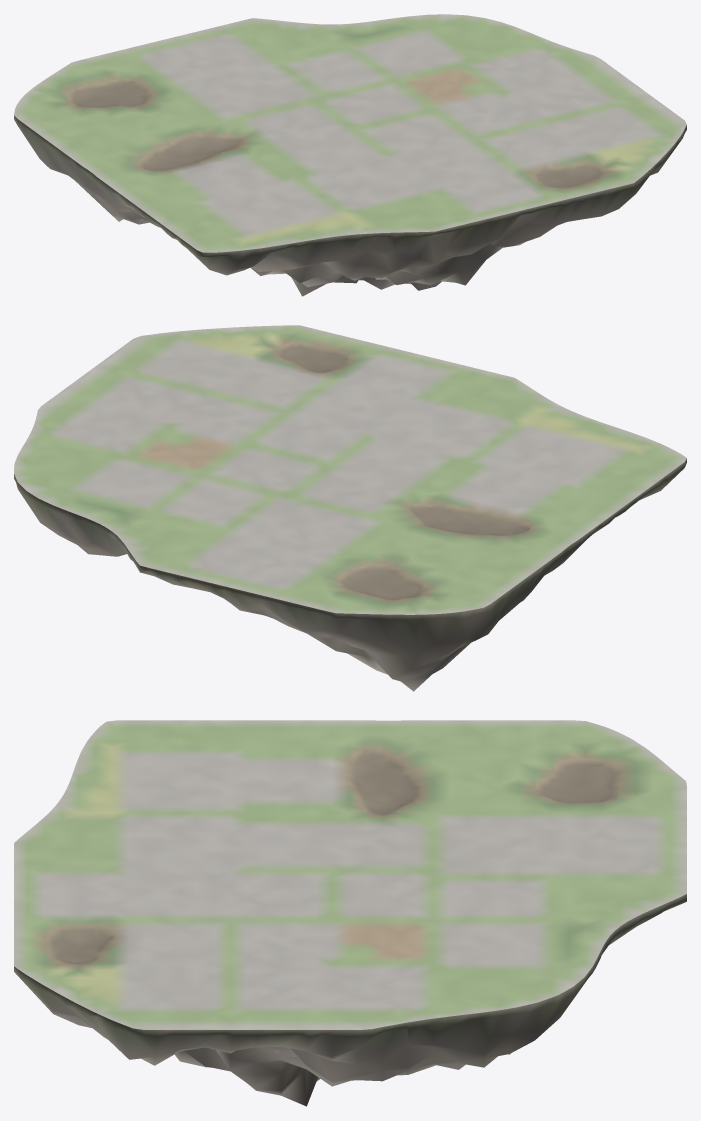
File: SKY-023.rock.glb
3 renders of one model, top to bottom at view 1: azimuth 30°, elevation 25°; view 2: azimuth 150°, elevation 25°; view 3: azimuth 270°, elevation 25°, orthographic. The views are drawn at different scales.
Visible parts, largest first — view 1: deck-col, rock; view 2: deck-col, rock; view 3: deck-col, rock.
Part boxes in pixels (x1,y1,x2,y2): deck-col: [14, 14, 686, 252]; rock: [14, 115, 686, 296]; deck-col: [14, 325, 686, 614]; rock: [14, 458, 686, 691]; deck-col: [14, 720, 686, 1029]; rock: [14, 894, 686, 1106].
Size of the model in its own units: 173 by 53.32 by 159.
